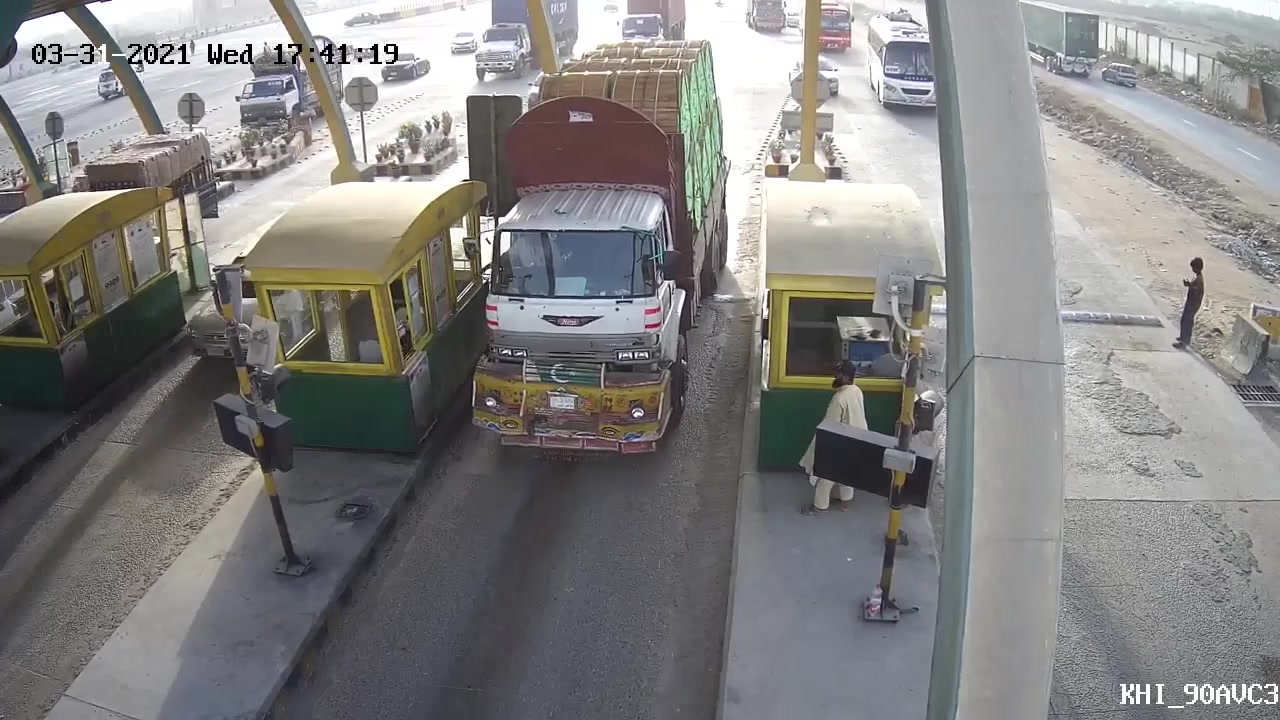F5: (457, 83, 729, 461)
